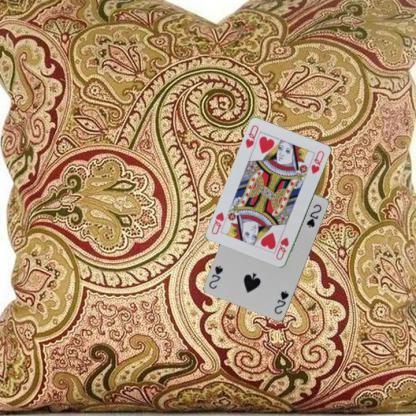2s: (272, 288, 290, 316)
Qh: (243, 122, 260, 150), (273, 235, 290, 261)
